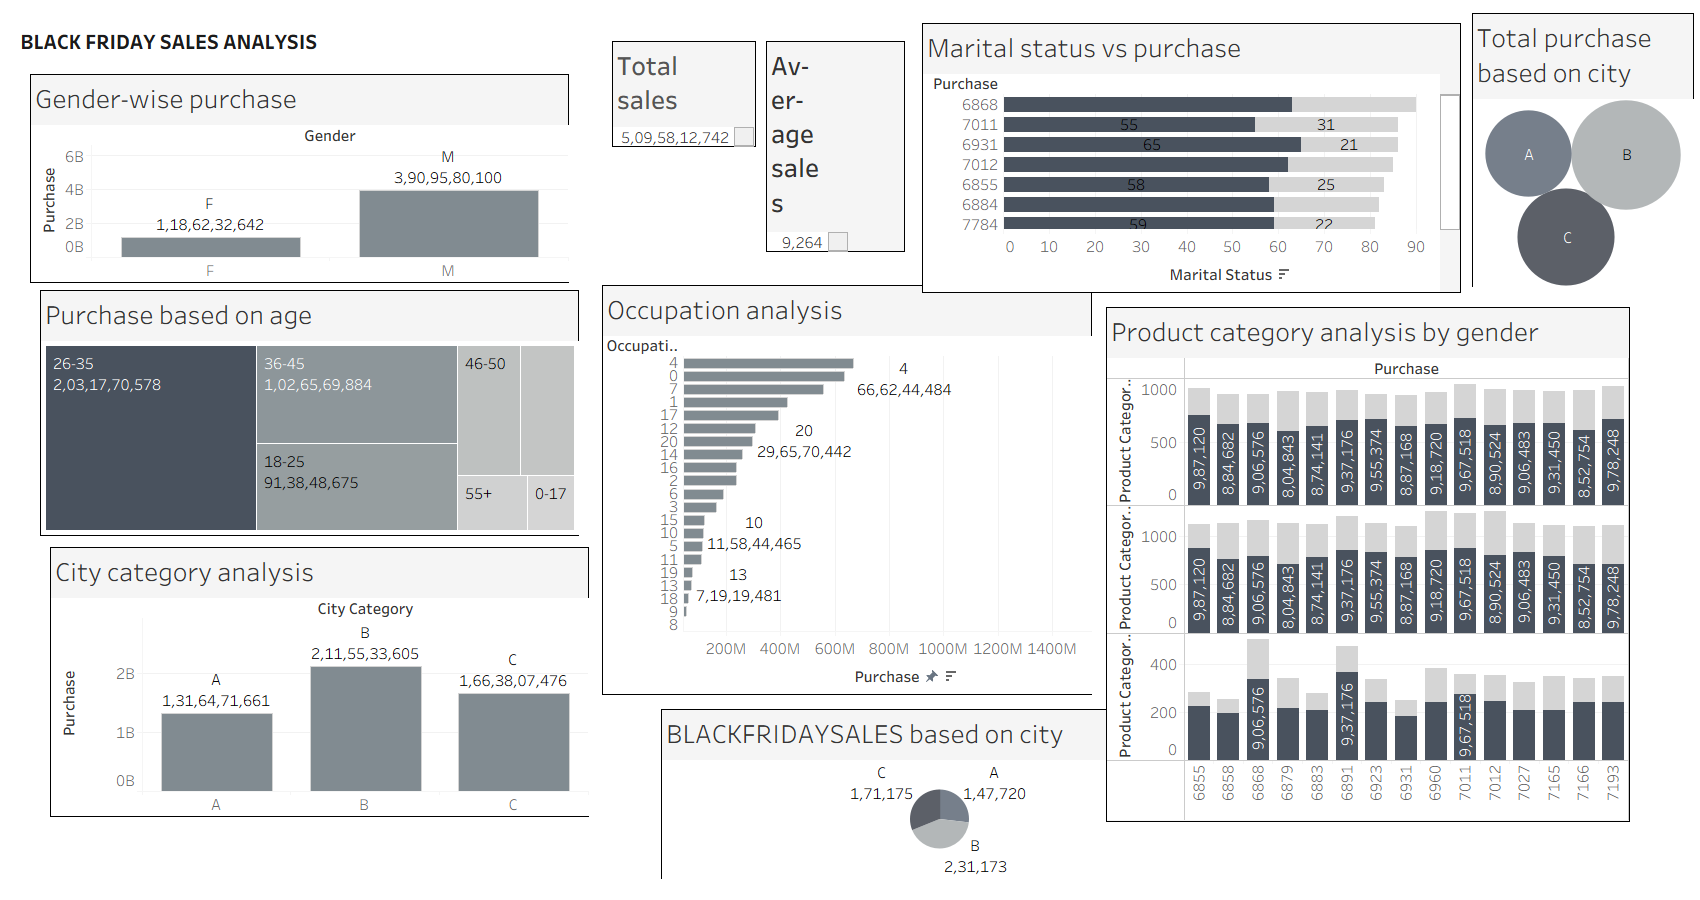

This screenshot's page, from the dashboard's own definition file:
{"tool":"tableau","page":{"name":"BLACK FRIDAY SALES DASHBOARD1","canvas":[1700,900],"ordinal":0},"visuals":[{"type":"legend","title":"Total purchase based on city","param":"[federated.0ddsy760kw4q361a42otg0qjiz3w].[none:CITY_CATEGORY:nk]","box":[1660,8,32,93]},{"type":"worksheet","title":"Total purchase based on city","mark":"Circle","box":[1468,9,230,282]},{"type":"text","box":[17,18,517,45]},{"type":"worksheet","title":"Marital status vs purchase","mark":"Automatic","rows":["PURCHASE"],"cols":["MARITAL_STATUS"],"box":[918,19,547,278]},{"type":"worksheet","title":"Total sales","mark":"Automatic","box":[608,37,152,114]},{"type":"worksheet","title":"Average sales","mark":"Automatic","box":[762,37,147,219]},{"type":"worksheet","title":"Gender-wise purchase","mark":"Automatic","rows":["PURCHASE"],"cols":["GENDER"],"box":[26,70,547,217]},{"type":"worksheet","title":"Occupation analysis","mark":"Automatic","rows":["OCCUPATION"],"cols":["PURCHASE"],"box":[598,281,498,417.8]},{"type":"worksheet","title":"Purchase based on age","mark":"Automatic","box":[36,286,547,254]},{"type":"worksheet","title":"Product category analysis by gender","mark":"Automatic","rows":["PRODUCT_CATEGORY_1","PRODUCT_CATEGORY_2","PRODUCT_CATEGORY_3"],"cols":["PURCHASE"],"box":[1102,303,532,523]},{"type":"worksheet","title":"City category analysis","mark":"Automatic","rows":["PURCHASE"],"cols":["CITY_CATEGORY"],"box":[46,543,547,278]},{"type":"worksheet","title":"BLACKFRIDAYSALES based on city","mark":"Pie","box":[657,705,565,178]}]}

Visuals, with their boxes in screenshot pixels (x1, y1, x2, y2), scaled from the page's 1700x900 canvas onto the 1700x900 screenshot:
"Total purchase based on city" legend: [left=1660, top=8, right=1692, bottom=101]
"Total purchase based on city" worksheet (Circle marks): [left=1468, top=9, right=1698, bottom=291]
text: [left=17, top=18, right=534, bottom=63]
"Marital status vs purchase" worksheet: [left=918, top=19, right=1465, bottom=297]
"Total sales" worksheet: [left=608, top=37, right=760, bottom=151]
"Average sales" worksheet: [left=762, top=37, right=909, bottom=256]
"Gender-wise purchase" worksheet: [left=26, top=70, right=573, bottom=287]
"Occupation analysis" worksheet: [left=598, top=281, right=1096, bottom=699]
"Purchase based on age" worksheet: [left=36, top=286, right=583, bottom=540]
"Product category analysis by gender" worksheet: [left=1102, top=303, right=1634, bottom=826]
"City category analysis" worksheet: [left=46, top=543, right=593, bottom=821]
"BLACKFRIDAYSALES based on city" worksheet (Pie marks): [left=657, top=705, right=1222, bottom=883]
